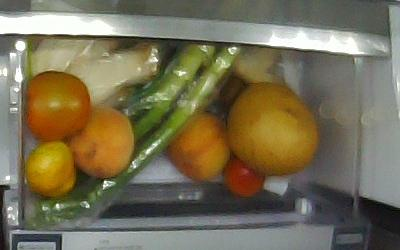peach: (69, 109, 135, 176), (165, 113, 229, 180)
pear: (229, 82, 318, 176)
tangerine: (27, 141, 75, 195)
tomato: (26, 71, 89, 140), (224, 155, 265, 196)
